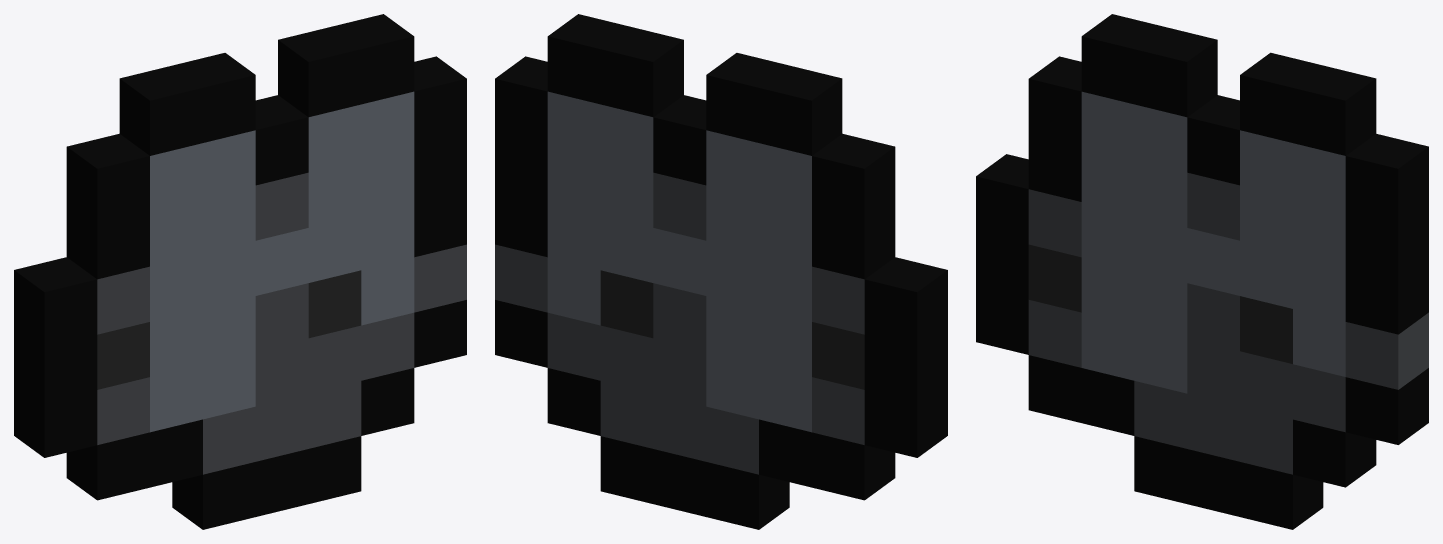
File: Basalt Pipefish.glb
3 renders of one model, left to right at view 1: azimuth 30°, elevation 25°; view 2: azimuth 150°, elevation 25°; view 3: azimuth 330°, elevation 25°, orthographic.
Visible parts, largest first — view 1: generated(Clone); view 2: generated(Clone); view 3: generated(Clone).
Boxes of the visible parts, x1,y1,x2,y2 form: generated(Clone): [14, 14, 466, 529]; generated(Clone): [495, 14, 947, 529]; generated(Clone): [976, 14, 1428, 529].
Size of the model in its own units: 8 by 8 by 1.
1 material, 1 textured.
